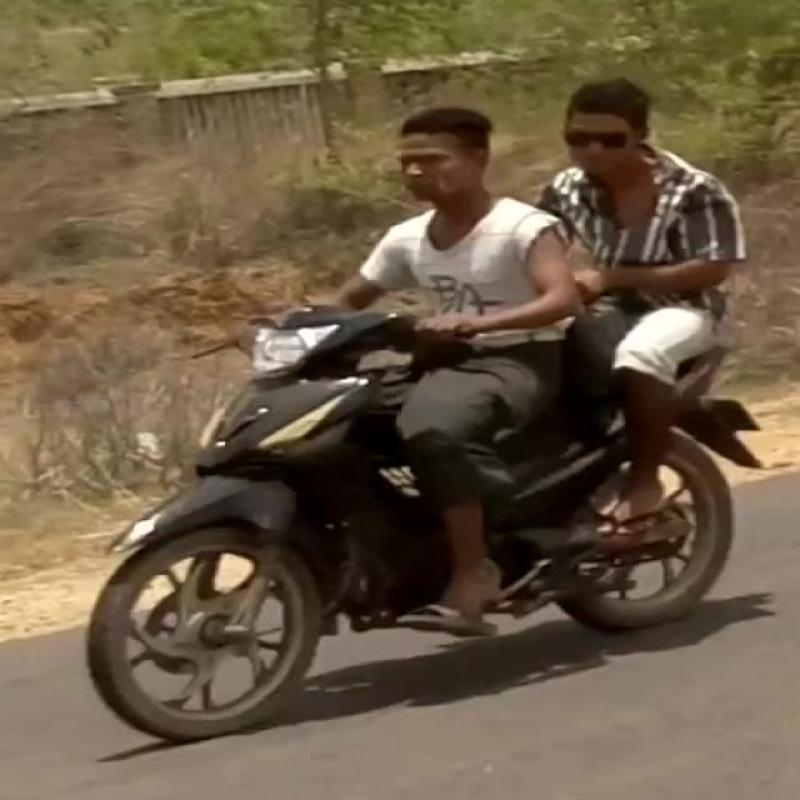nohelmet: (544, 80, 722, 222), (376, 88, 522, 231)
